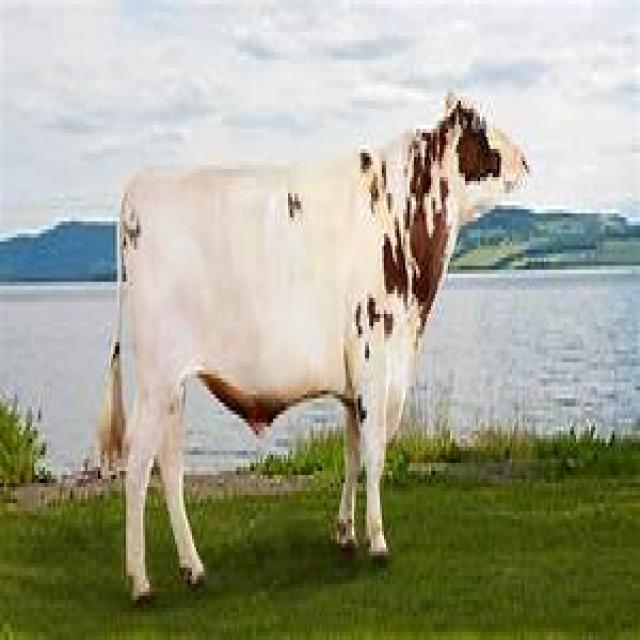cow: (94, 97, 531, 604)
